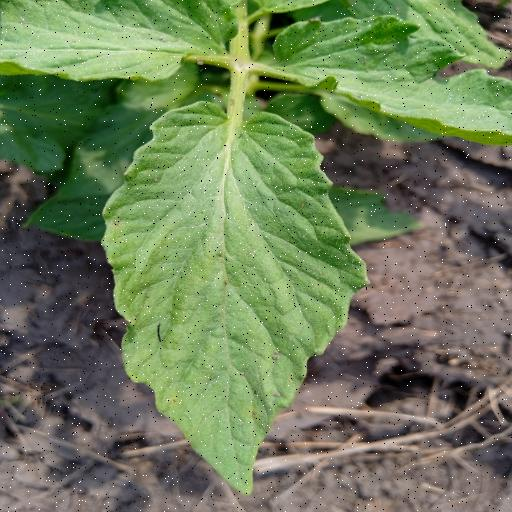Tomato_healthy: (92, 92, 370, 510)
